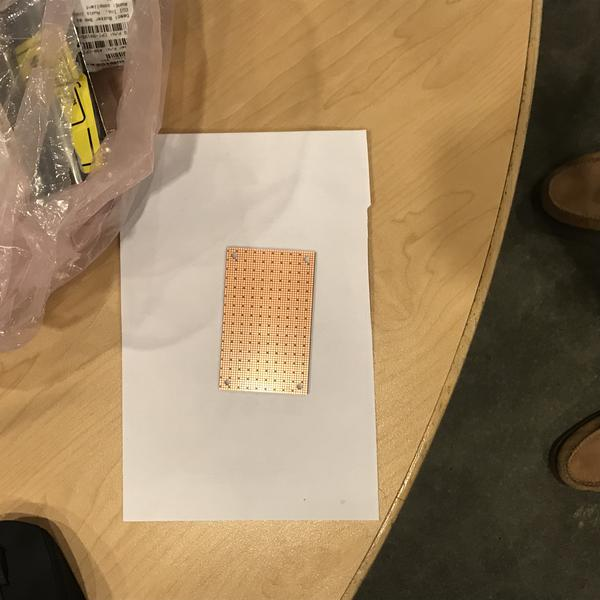board: (213, 242, 319, 400)
